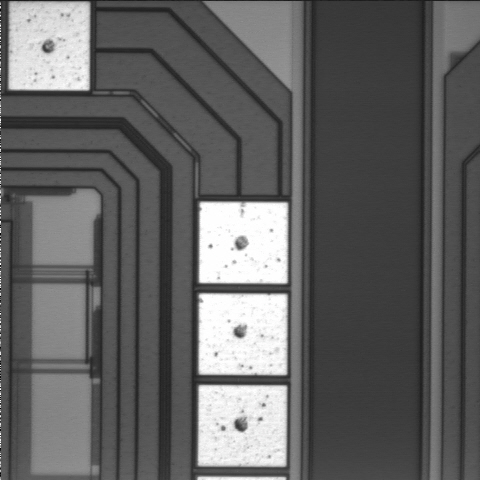pad: (199, 202, 288, 284), (198, 385, 287, 467), (199, 293, 287, 375), (9, 2, 90, 90)
